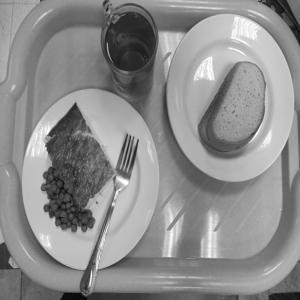bread: (189, 57, 274, 160)
casserole: (32, 105, 120, 238)
tea: (91, 2, 163, 97)
